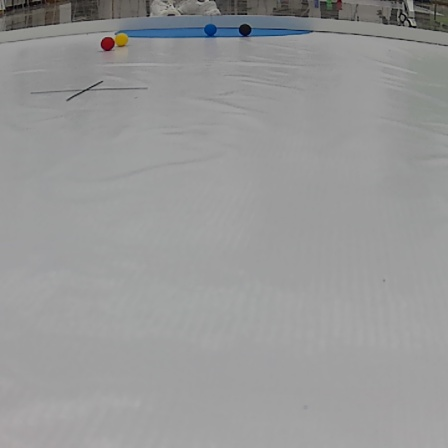black: (239, 24, 252, 37)
blue: (203, 23, 217, 34)
blue_base: (120, 26, 313, 40)
red: (99, 37, 115, 50)
yellow: (113, 33, 130, 45)
